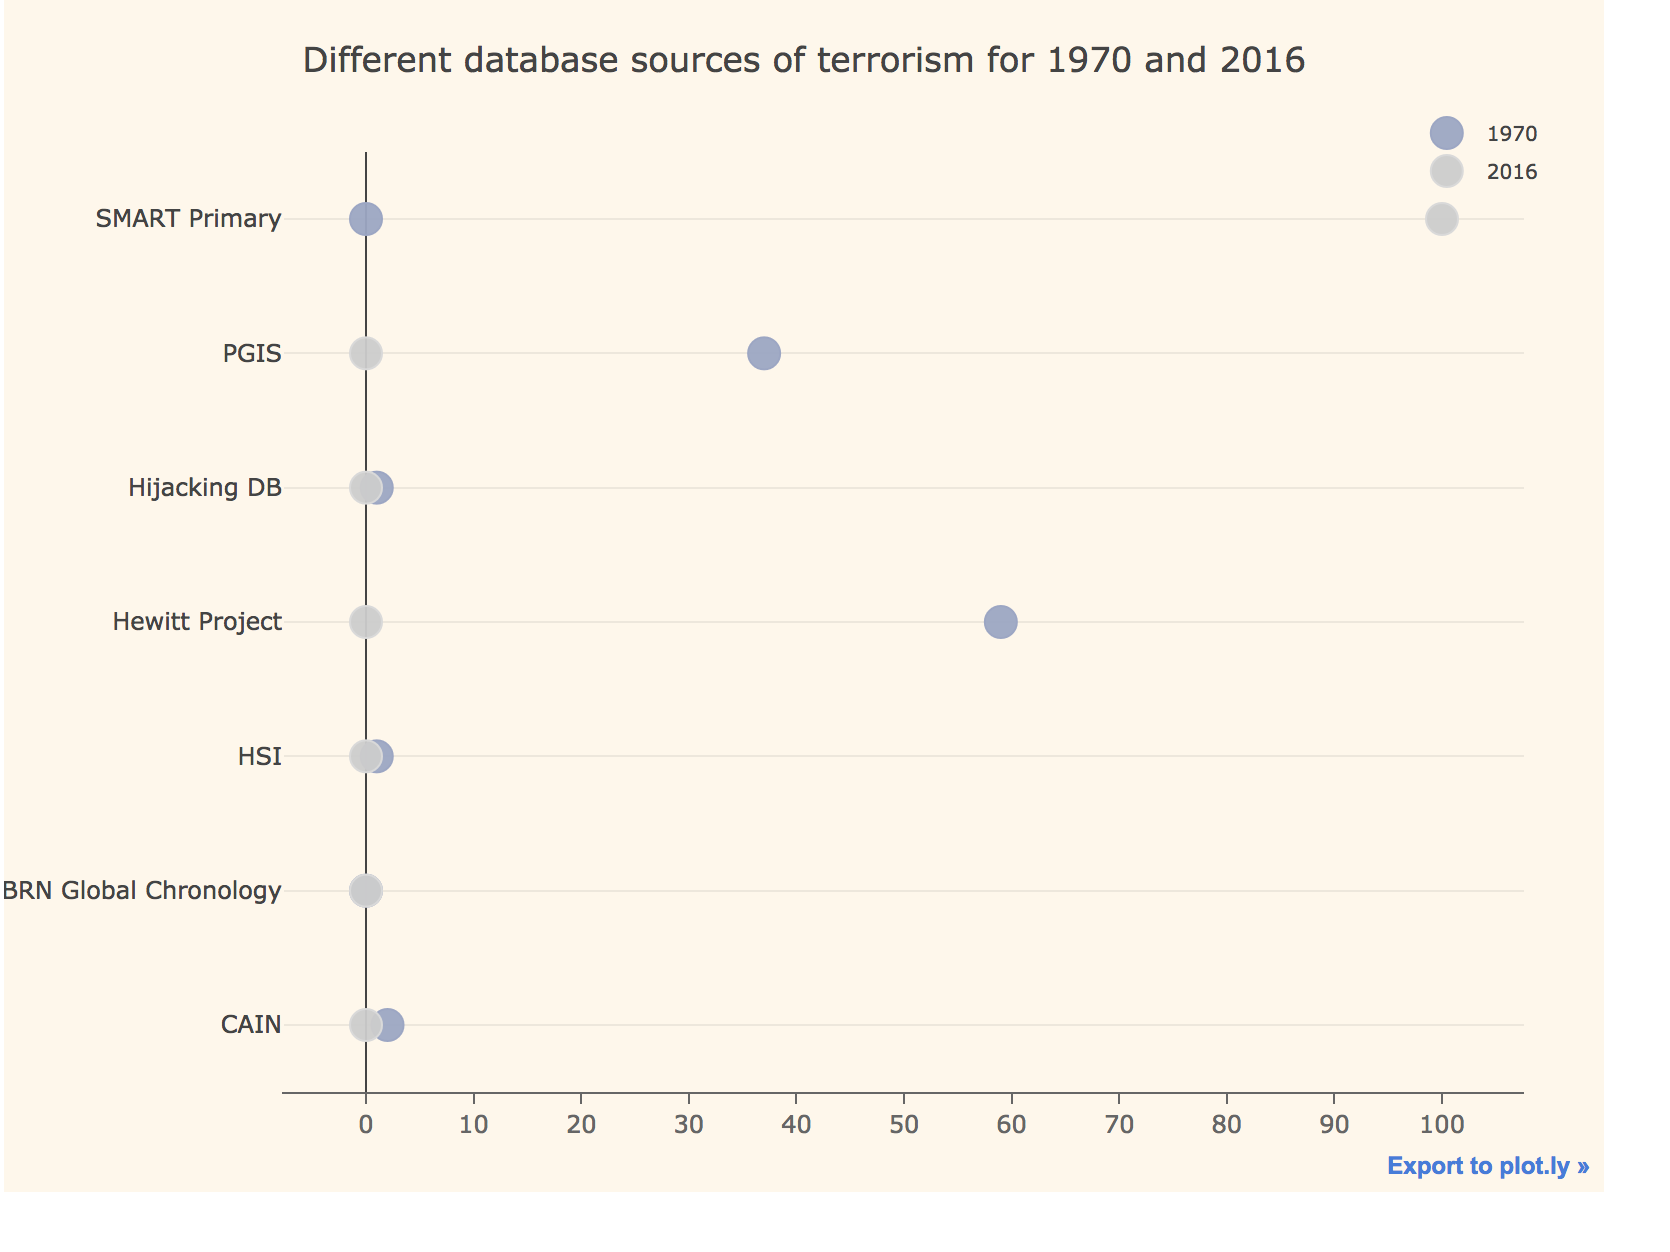

What the dashboard file says about the page in this screenshot:
{"tool":"tableau","page":{"name":"Dashboard 1","canvas":[1000,800],"ordinal":0},"visuals":[{"type":"worksheet","title":"Sheet 2","mark":"Circle","box":[0,0,420,800]},{"type":"worksheet","title":"Sheet 1","mark":"Circle","box":[420,0,420,800]},{"type":"legend","title":"Sheet 2","param":"[federated.04id06k0r0qn6o1epfiiu1t74m8r].[none:country_txt:nk]","box":[840,0,160,710]},{"type":"filter","title":"Sheet 1","param":"[federated.04id06k0r0qn6o1epfiiu1t74m8r].[none:iyear:qk]","box":[840,710,160,69]}]}

Visuals, with their boxes on the page's 1000x800 design canvas (x1, y1, x2, y2). These are canvas units, not pixel positions in the 1670x1252 screenshot, which may show the page scaled, cropped or inside an application window:
"Sheet 2" worksheet (Circle marks): (left=0, top=0, right=420, bottom=800)
"Sheet 1" worksheet (Circle marks): (left=420, top=0, right=840, bottom=800)
"Sheet 2" legend: (left=840, top=0, right=1000, bottom=710)
"Sheet 1" filter: (left=840, top=710, right=1000, bottom=779)
